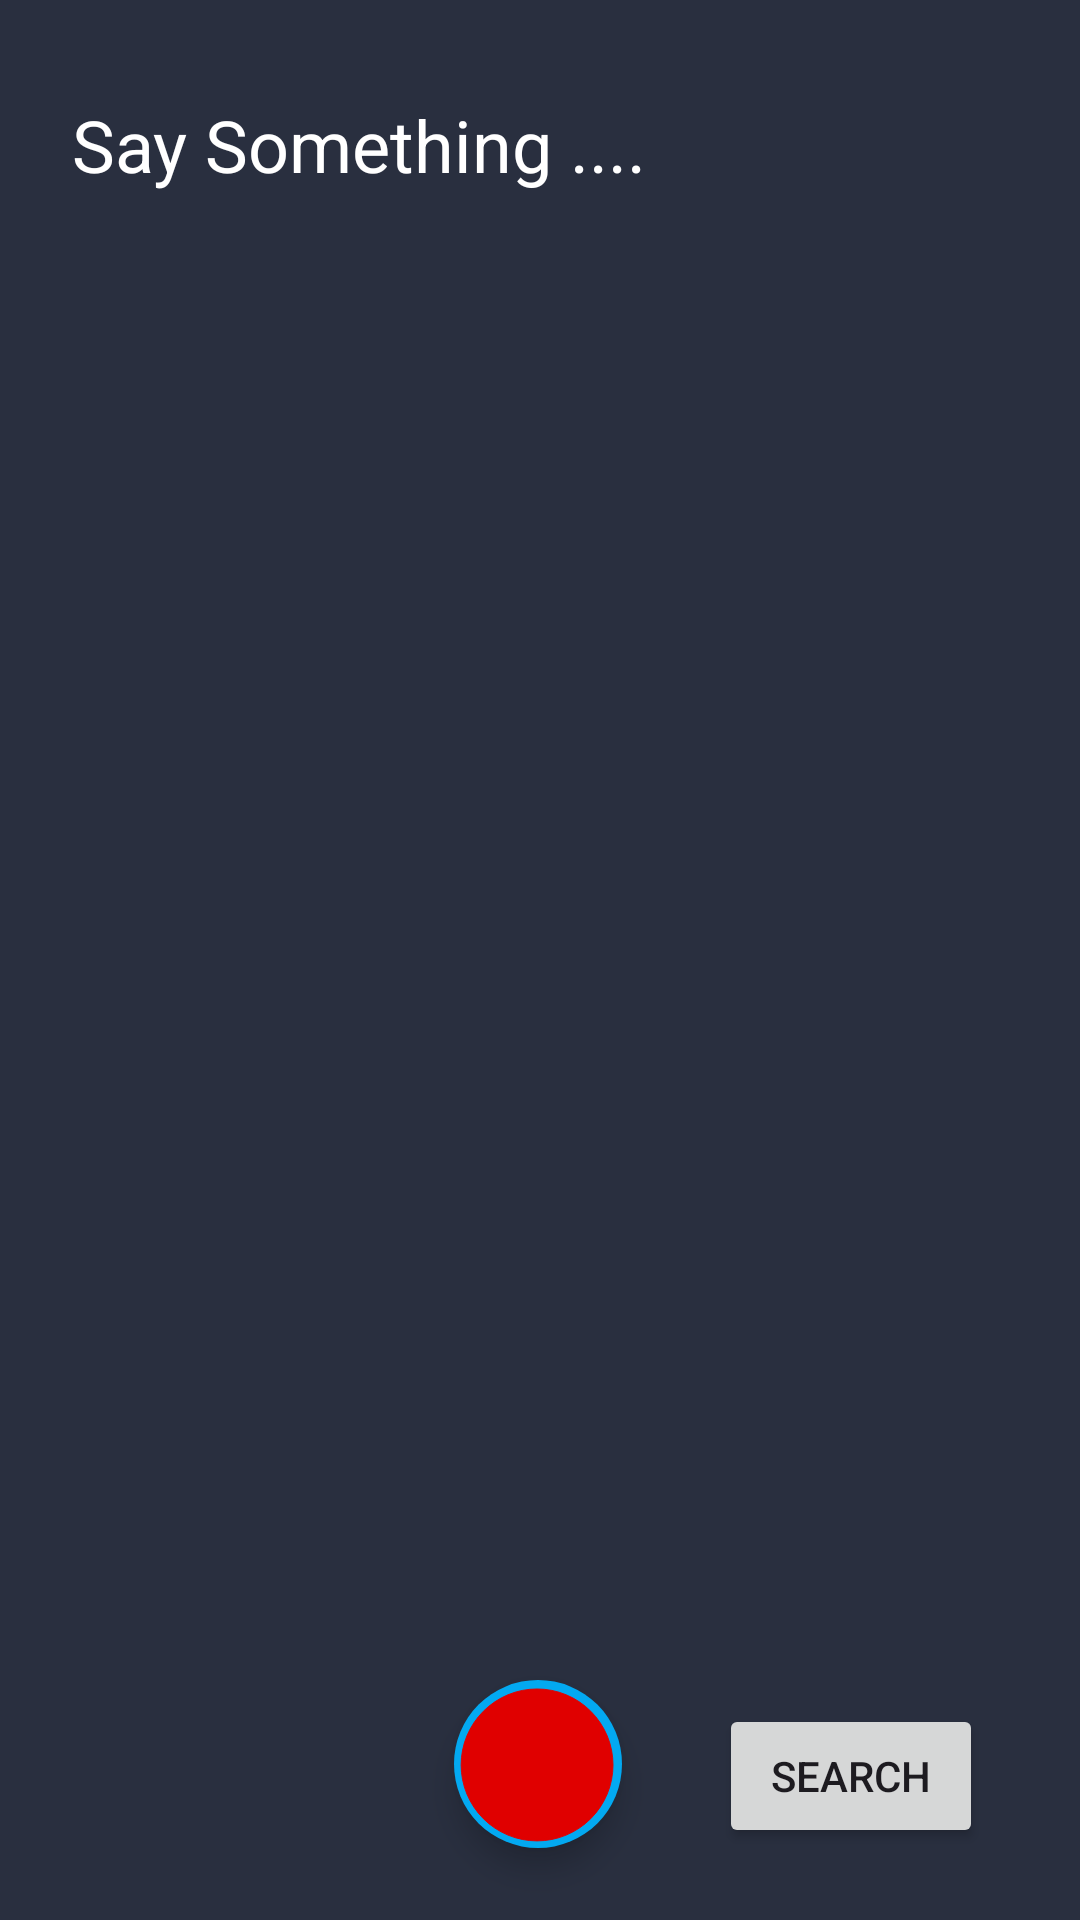

Icon bounding boxes for this 1080 x 1920 phone screenshot, format (x1=x1, y1=y1, x2=x2, y2=y2):
recording circle: (x1=454, y1=1680, x2=622, y2=1848)
